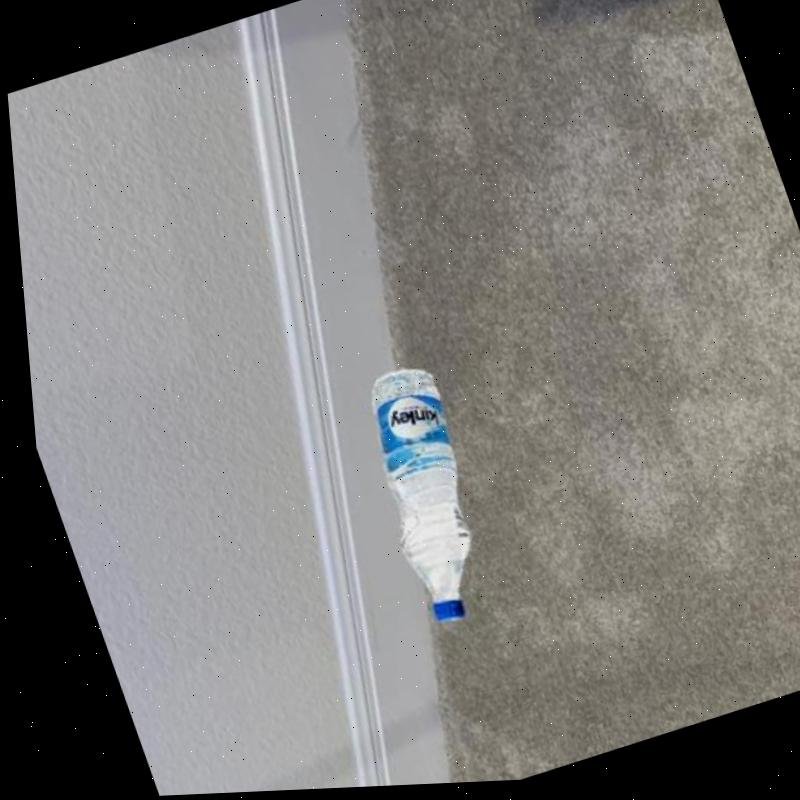botella: (336, 358, 514, 631)
